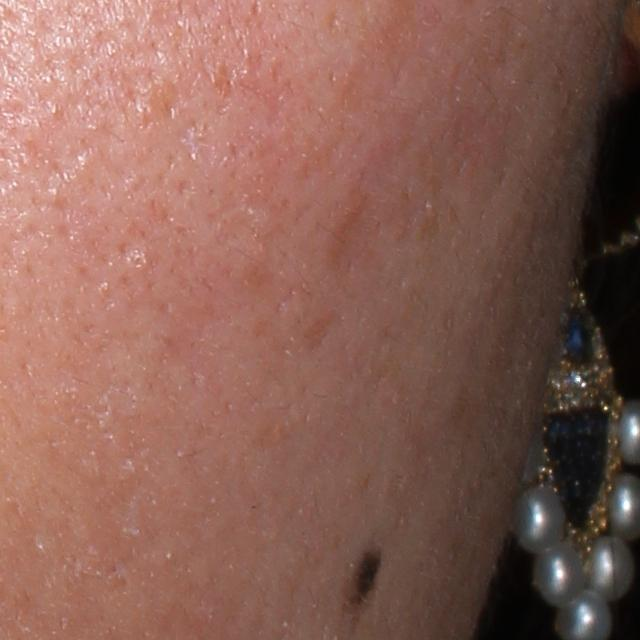nevus: (351, 543, 383, 606)
